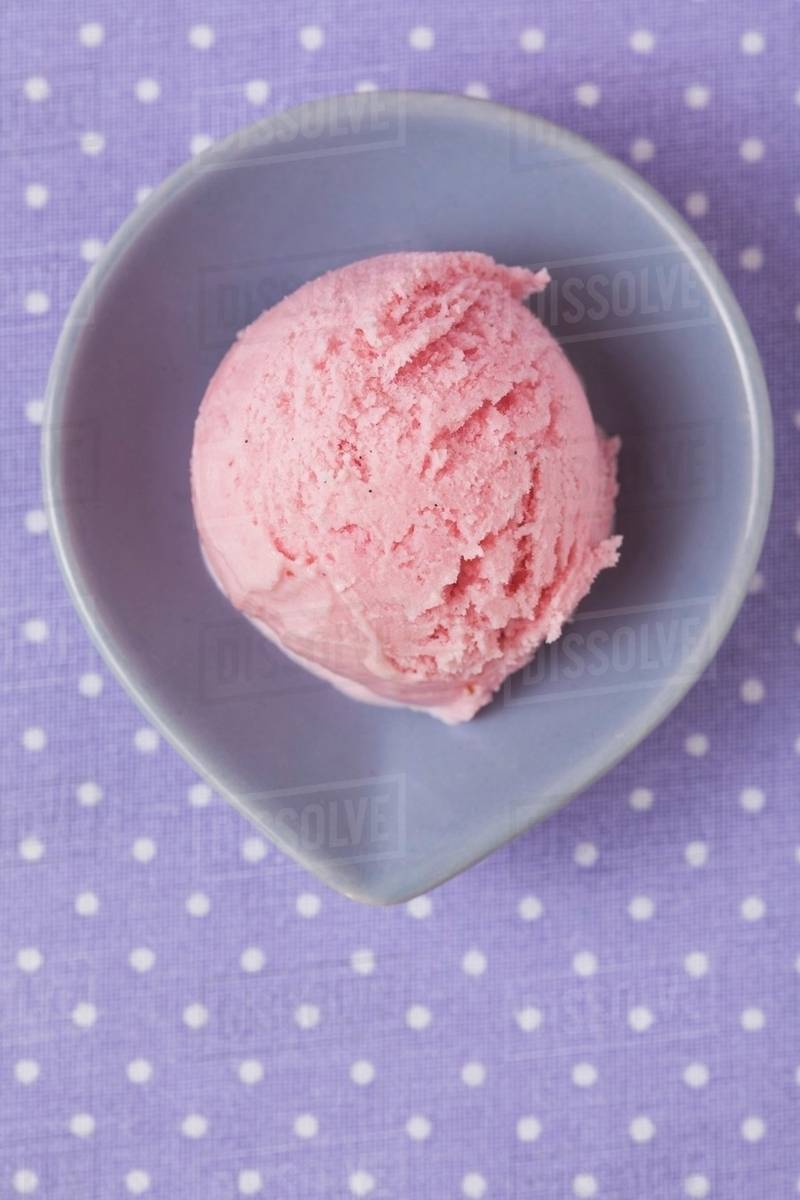ice-cream: (192, 252, 622, 717)
